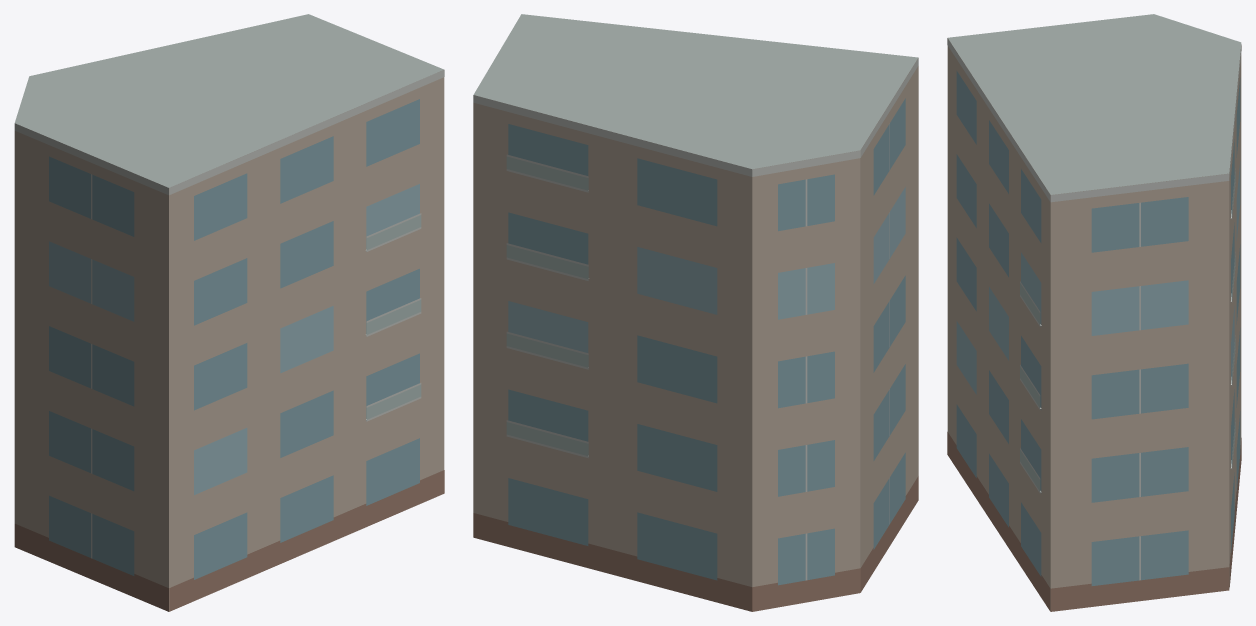
The model's file is survey-upis-32917256.glb.
3 views of the same model, side by side, from view 1: azimuth 30°, elevation 25°; view 2: azimuth 150°, elevation 25°; view 3: azimuth 270°, elevation 25° (orthographic). The views are drawn at different scales.
Parts seen in each view (by area): view 1: survey-upis-32917256.tmp; view 2: survey-upis-32917256.tmp; view 3: survey-upis-32917256.tmp.
Boxes of the visible parts, left/top/right/bottom form: survey-upis-32917256.tmp: left=14, top=14, right=444, bottom=611; survey-upis-32917256.tmp: left=473, top=14, right=918, bottom=611; survey-upis-32917256.tmp: left=947, top=14, right=1241, bottom=611.
Size of the model in its own units: 12.95 by 13.9 by 8.9.
